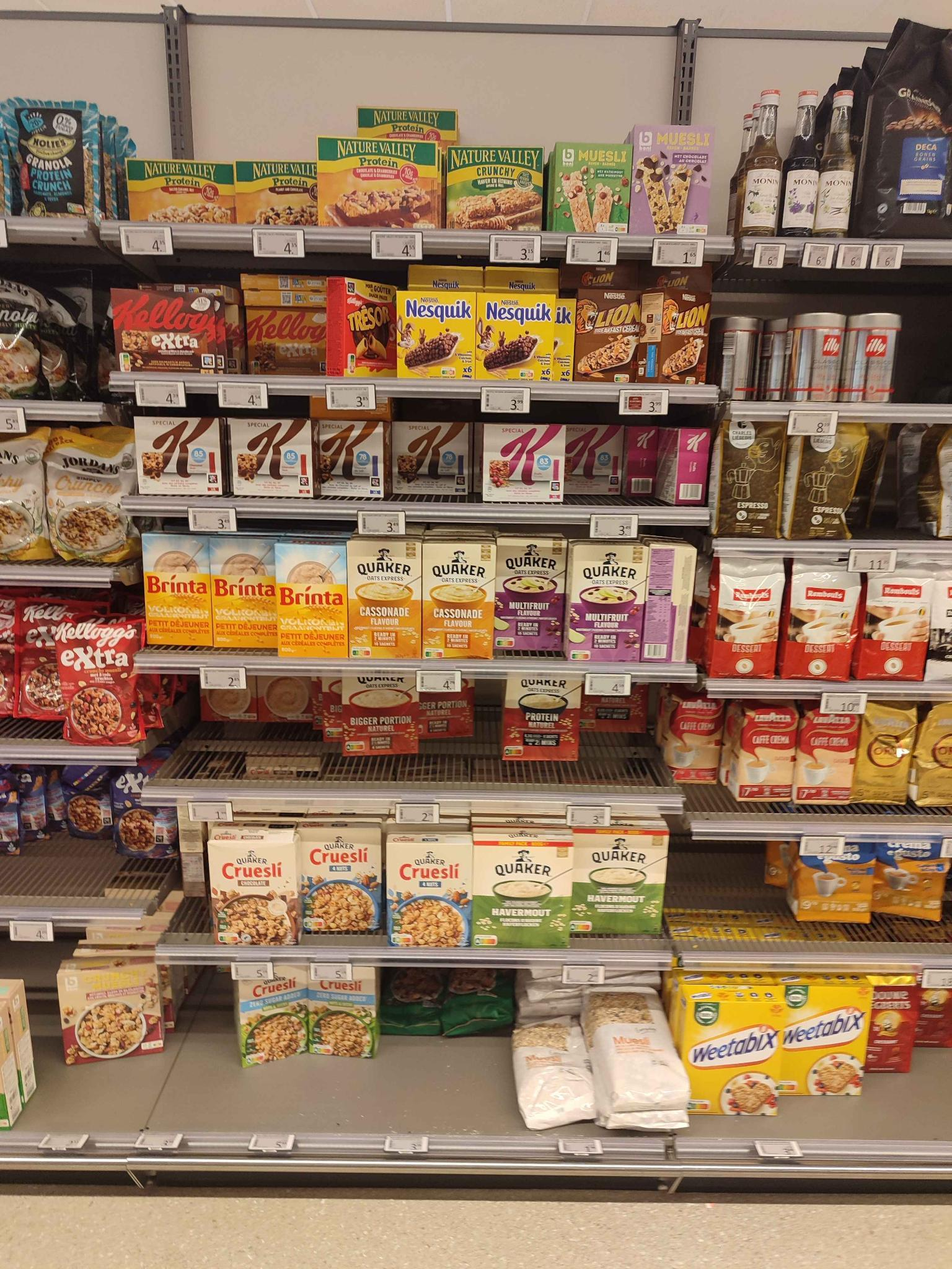nutri_A: (474, 934, 498, 946), (571, 921, 594, 933), (346, 740, 366, 752), (577, 719, 600, 729), (120, 354, 132, 373), (313, 1044, 333, 1055), (504, 746, 525, 756), (326, 728, 344, 738), (610, 223, 627, 233), (245, 1056, 265, 1064)
nutri_B: (391, 934, 414, 946), (305, 916, 323, 929)
nutri_C: (497, 638, 518, 649), (571, 651, 593, 661), (218, 933, 238, 943), (352, 647, 371, 656), (424, 649, 443, 658)
nutri_D: (441, 368, 458, 376), (350, 354, 356, 373), (521, 371, 536, 378)
shelf_bottom: (1, 829, 952, 1147)
shelf_middle: (4, 416, 952, 824)
shelf_top: (1, 5, 952, 408)
